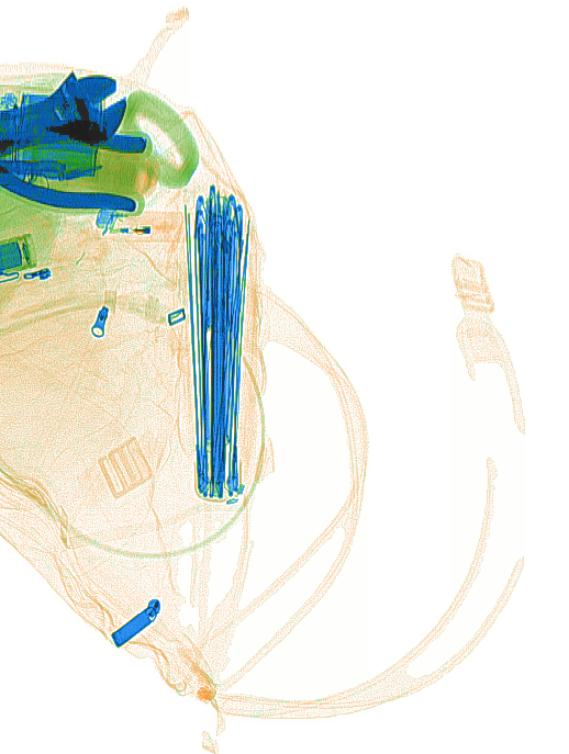battery: (2, 83, 104, 179)
lighter: (96, 208, 191, 244)
